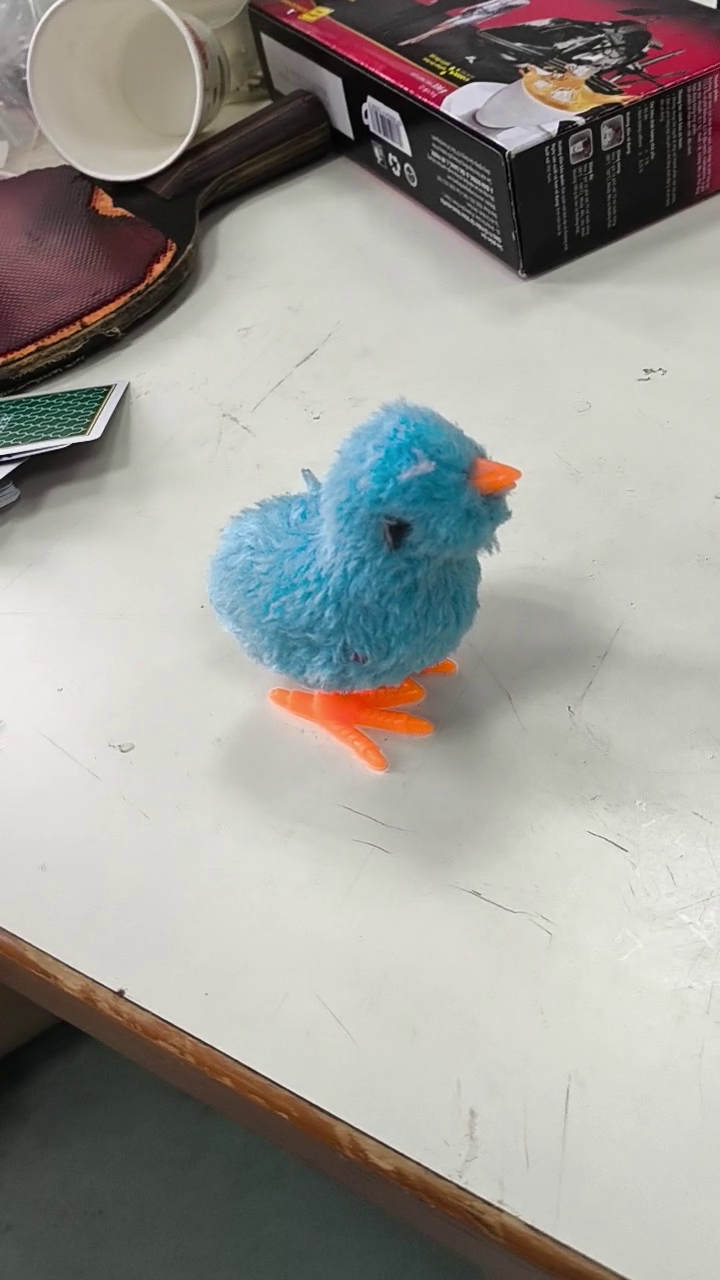blue chicken: (201, 392, 531, 781)
